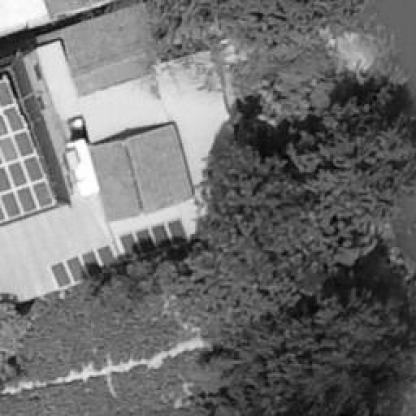solar-pv-panel: (0, 77, 56, 222), (48, 246, 117, 288), (120, 219, 188, 256)
